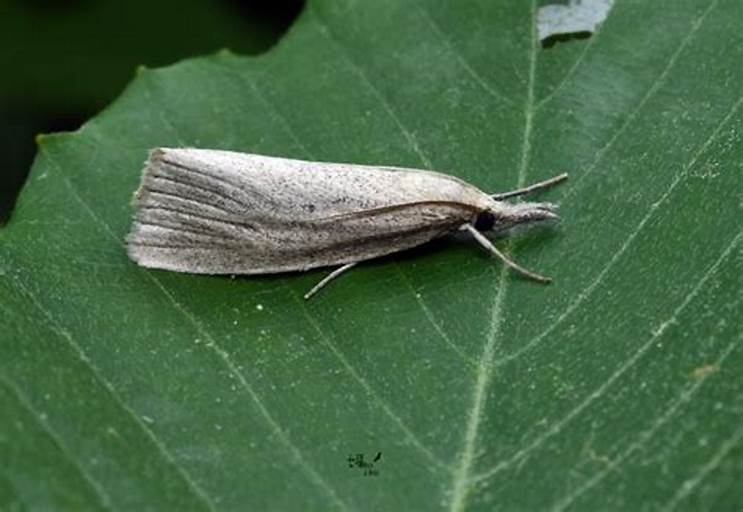Crambidae: (118, 151, 569, 299)
